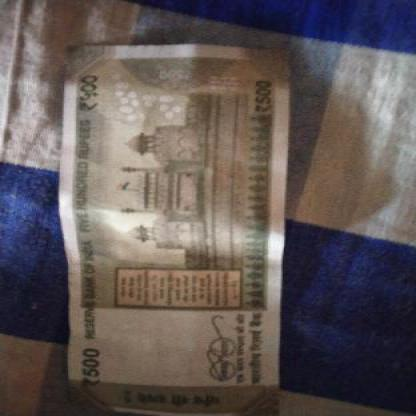New500Back: (61, 52, 278, 414)
